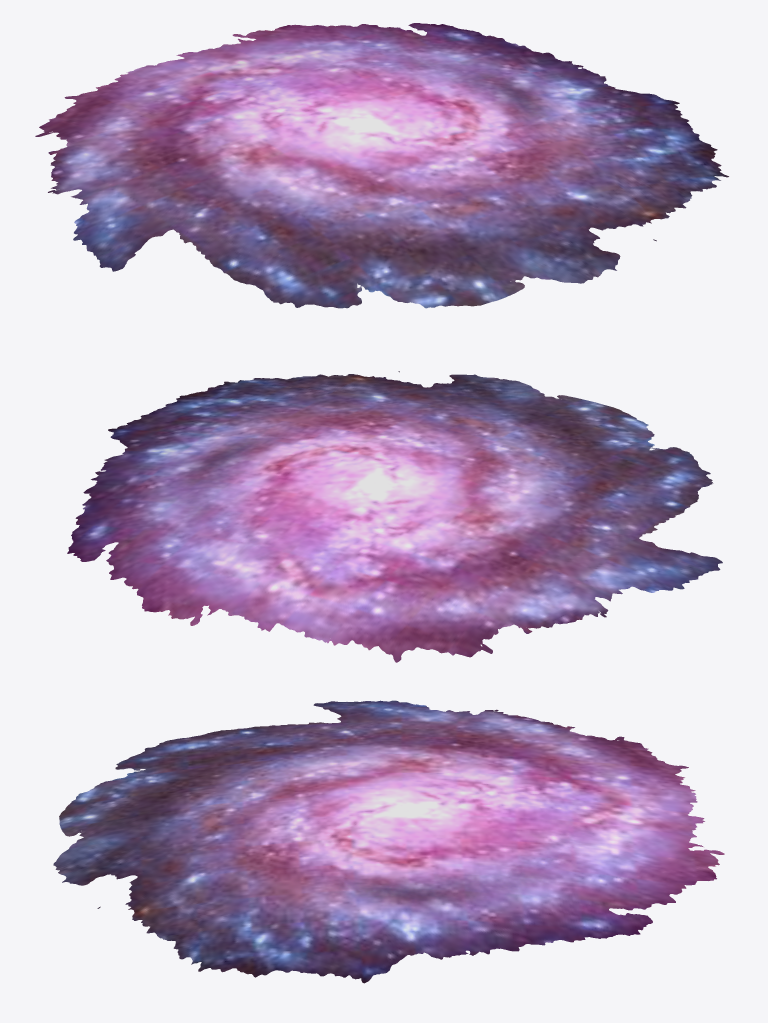
The model's file is cloud4.fbx.
The picture shows the model from 3 angles, top to bottom: view 1: azimuth 30°, elevation 25°; view 2: azimuth 150°, elevation 25°; view 3: azimuth 270°, elevation 25°; orthographic projection.
Parts seen in each view (by area): view 1: pCylinder2; view 2: pCylinder2; view 3: pCylinder2.
Part boxes in pixels (<box>): pCylinder2: <box>35,23,728,308</box>; pCylinder2: <box>67,371,722,662</box>; pCylinder2: <box>53,700,724,983</box>.
Size of the model in its own units: 128 by 8.54 by 128.
Materials: 1 (1 with a texture image).
